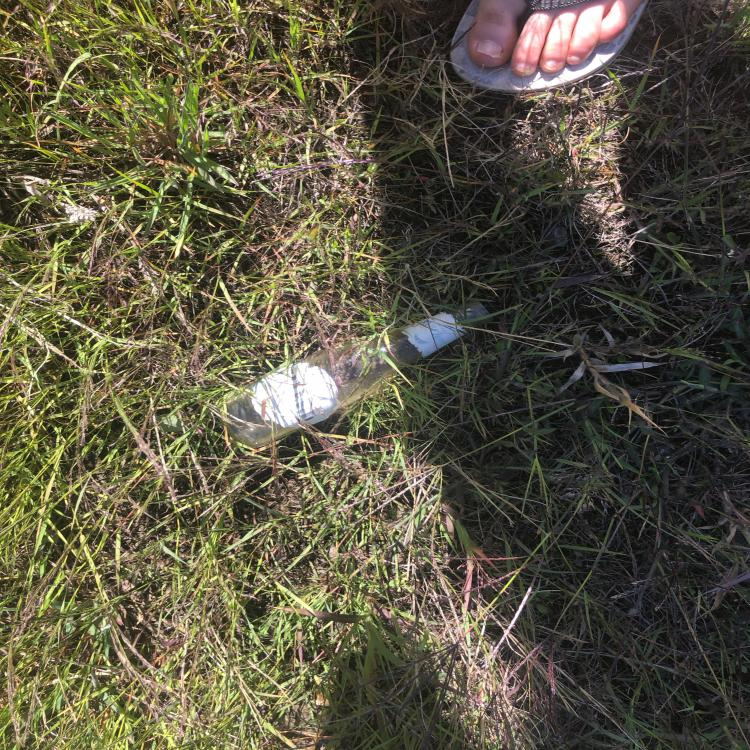Glass bottle: (217, 297, 493, 448)
